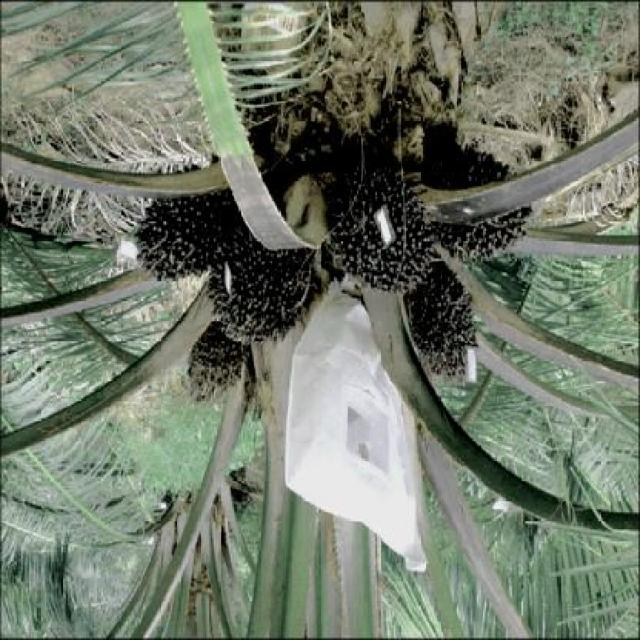palm-oil: (325, 140, 440, 290), (125, 179, 238, 281), (433, 144, 532, 260), (402, 258, 490, 387), (212, 255, 311, 350), (176, 318, 248, 411)
